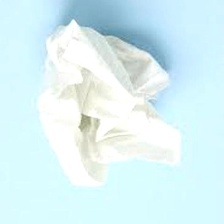tissue: (29, 13, 187, 194)
